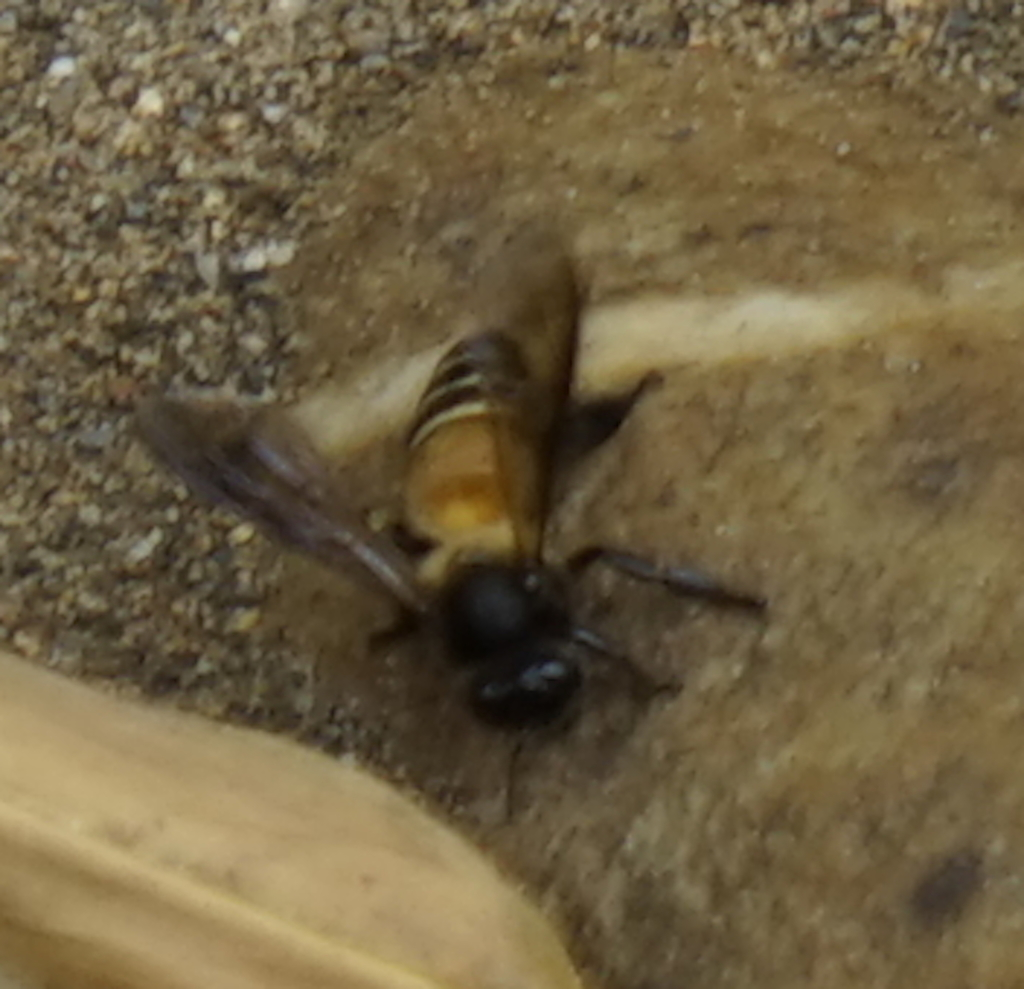honeybee: (129, 256, 766, 820)
